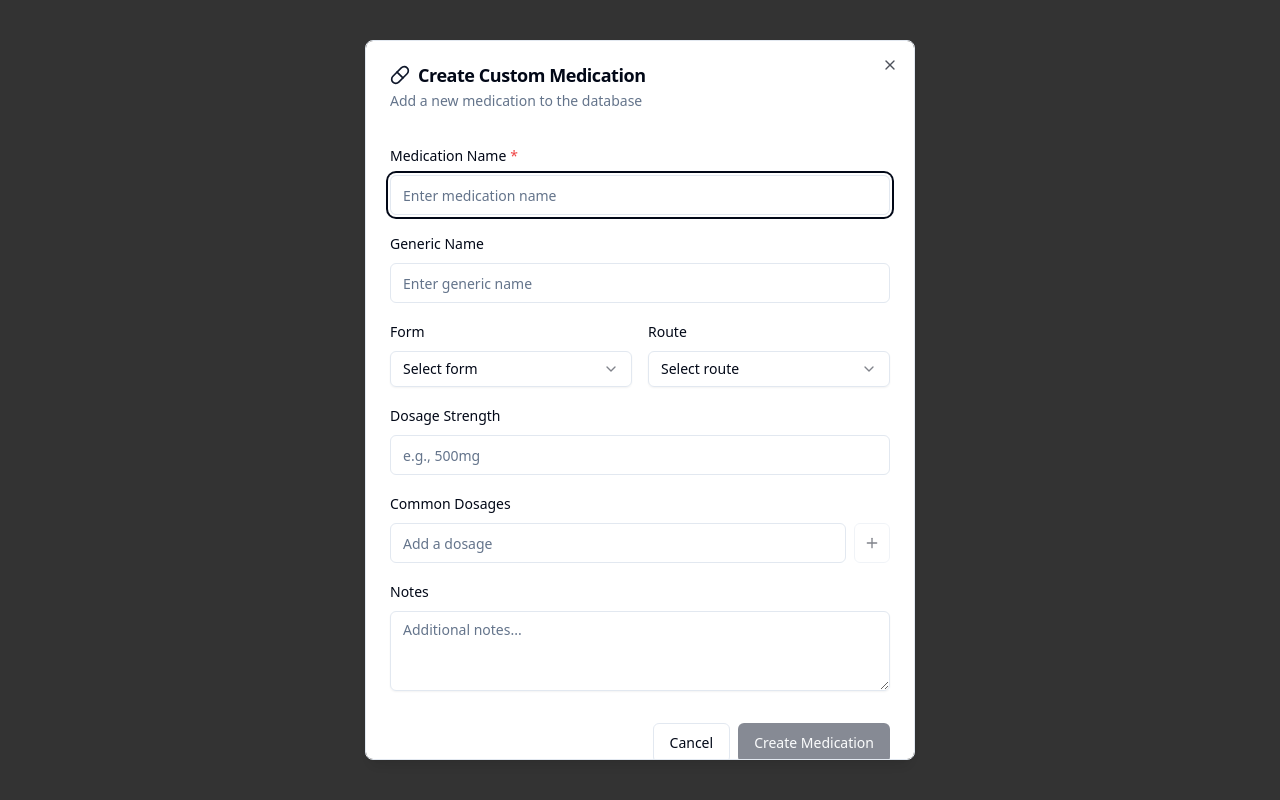
Scenario: CustomMedicationDialog › Form Validation › enables create button when name is valid
This screenshot has width=1280, height=800.
Type "Aspirin" into the field with placeholder "Enter medication name" at (640, 195), box [390, 175, 890, 215]
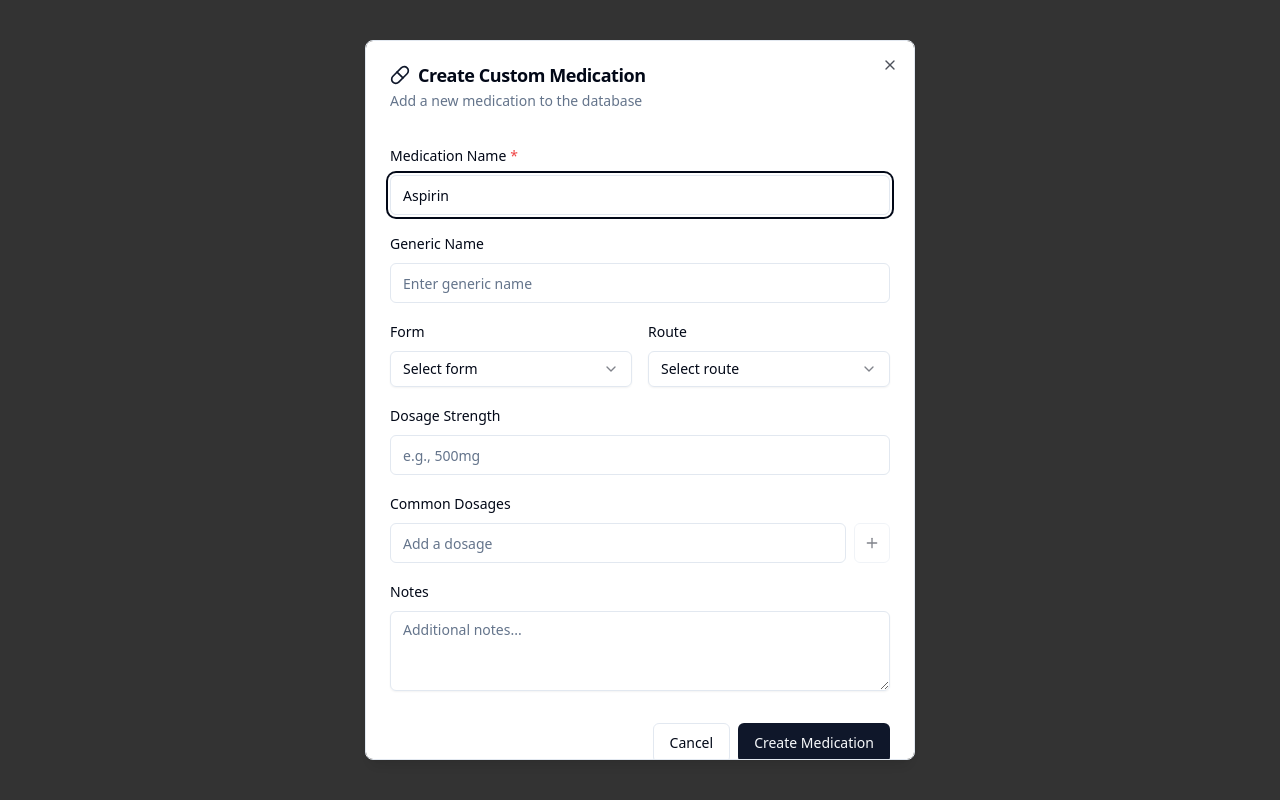
Expected: the button "Create Medication" is enabled, [738, 723, 890, 760]
